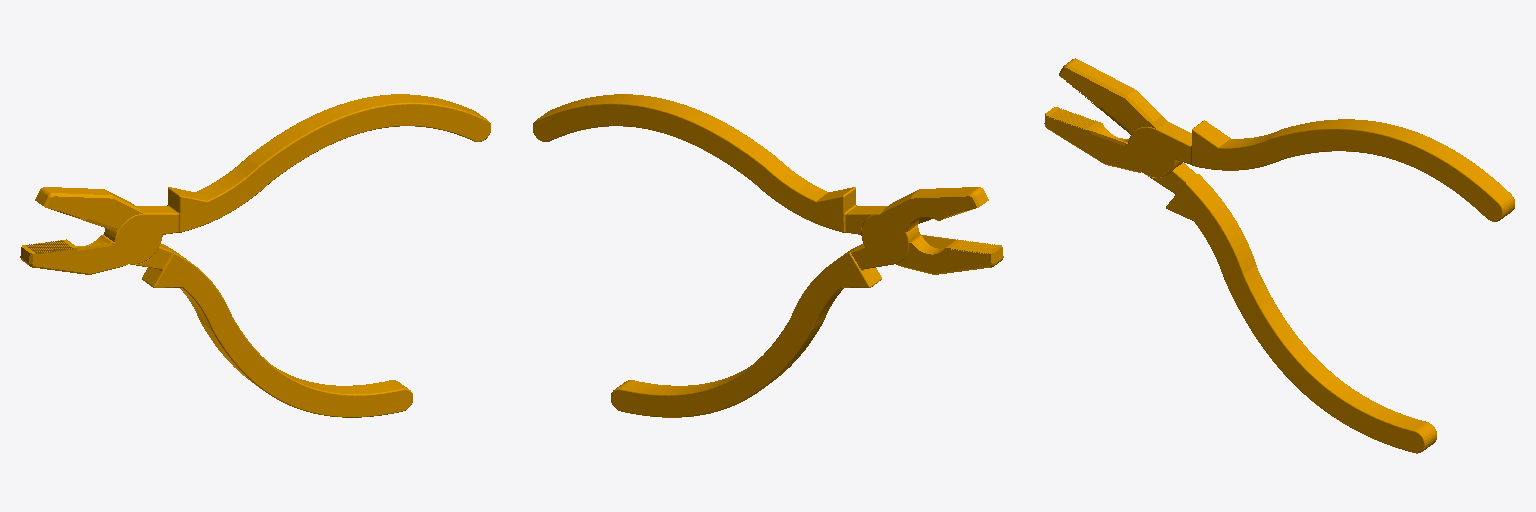
The robot description file, URDF, robot "plier_3_L0.65_T0.64":
<?xml version="1.0" encoding="utf-8"?>
<robot name="plier_3_L0.65_T0.64">
  <link name="plier_3_L0.65_T0.64Link">
    <contact>
      <lateral_friction value="1"/>
    </contact>
    <inertial>
      <origin rpy="0 0 0" xyz="0 0 0"/>
      <mass value="0.0"/>
      <inertia ixx="0" ixy="0" ixz="0" iyy="0" iyz="0" izz="0"/>
    </inertial>
    <visual>
      <origin rpy="0 0 0" xyz="0 0 0"/>
      <geometry>
        <mesh filename="generated_stl/plier/plier_3/plier_3_L0.65_T0.64/plier_3_L0.65_T0.64.stl" scale="0.01 0.01 0.01"/>
      </geometry>
    </visual>
    <collision>
      <origin rpy="0 0 0" xyz="0 0 0"/>
      <geometry>
        <mesh filename="generated_stl/plier/plier_3/plier_3_L0.65_T0.64/plier_3_L0.65_T0.64.stl" scale="0.01 0.01 0.01"/>
      </geometry>
    </collision>
  </link>
</robot>

--- Render facts (derived) ---
Views: 3 orthographic renders of the robot side by side, from view 1: azimuth 30°, elevation 25°; view 2: azimuth 150°, elevation 25°; view 3: azimuth 330°, elevation 25°.
Robot: plier_3_L0.65_T0.64 — 1 links, 0 joints (none); root link plier_3_L0.65_T0.64Link; default pose: every joint at zero.
Links seen in each view (by area): view 1: plier_3_L0.65_T0.64Link; view 2: plier_3_L0.65_T0.64Link; view 3: plier_3_L0.65_T0.64Link.
Link boxes in pixels (x1,y1,x2,y2): plier_3_L0.65_T0.64Link: (20, 94, 490, 417); plier_3_L0.65_T0.64Link: (533, 94, 1003, 417); plier_3_L0.65_T0.64Link: (1044, 58, 1514, 453).
Size in the robot's own frame: 0.052 by 0.0025 by 0.0336 metres.
1 mesh visuals loaded from 1 distinct referenced files (1 binary STL).